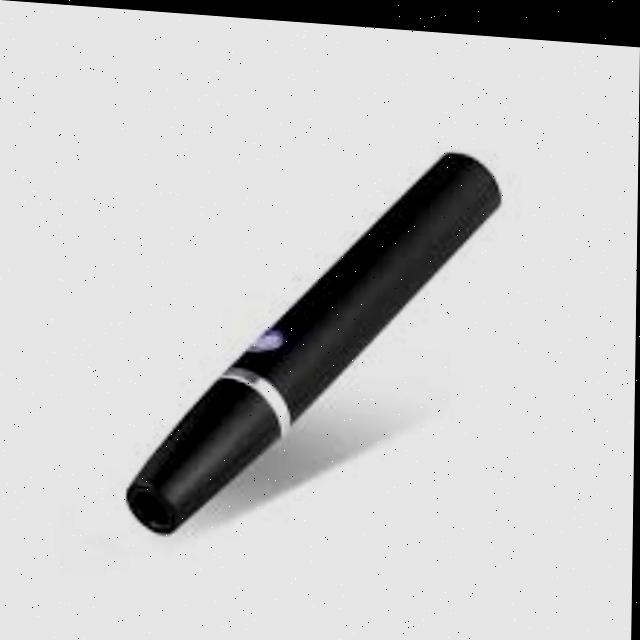vape: (127, 118, 502, 551)
